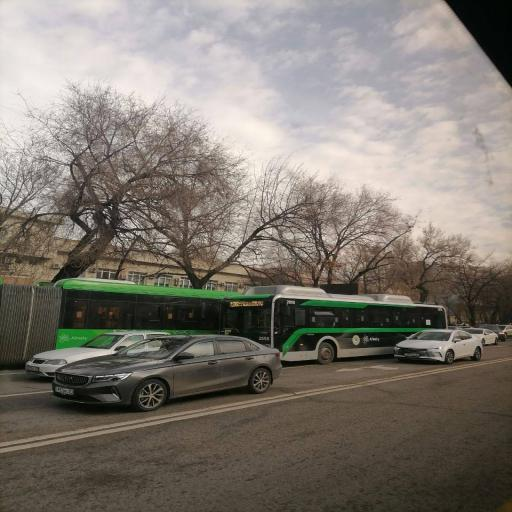book: (52, 327, 287, 411)
glass_wall: (0, 334, 512, 512)
